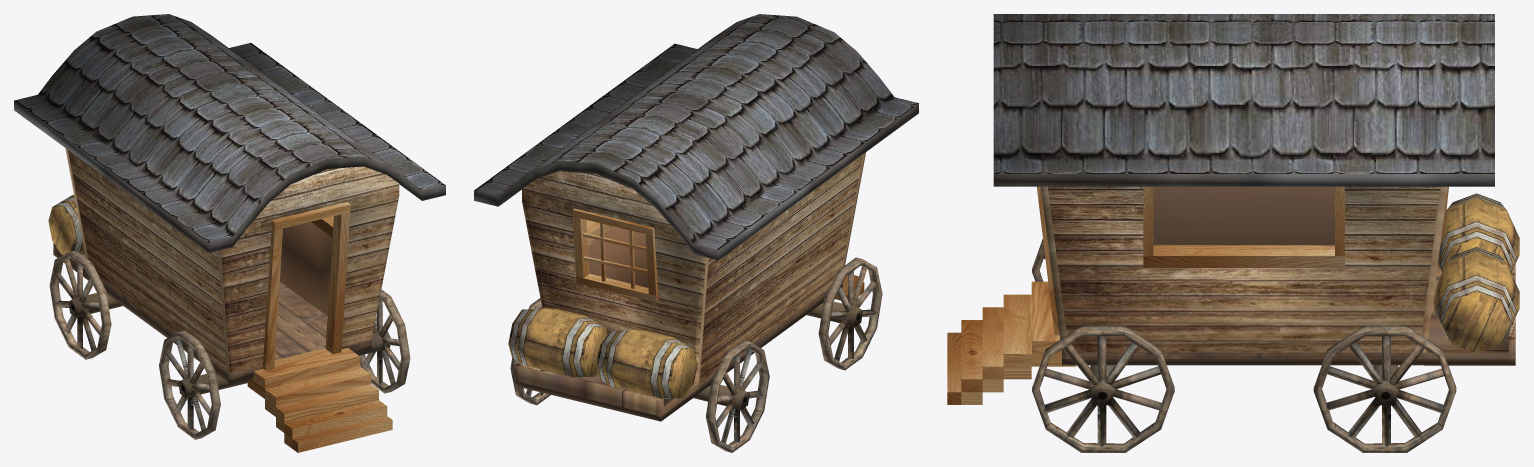
The model's file is caravan_shop.glb.
The picture shows the model from 3 angles, left to right: view 1: azimuth 30°, elevation 25°; view 2: azimuth 150°, elevation 25°; view 3: azimuth 270°, elevation 25°; orthographic projection. The views are drawn at different scales.
Visible parts, largest first — view 1: Roof, Wagon, Steps, Wheels, Trim_2, Spokes, Barrel, Axles; view 2: Roof, Wagon, Barrel, Barrel.001, Wheels, Spokes, Trim_1, Axles, WindowBars; view 3: Roof, Wagon, Steps, Spokes, Wheels, Barrel.001, Trim_3, Barrel, Axles, Trim_2.
Boxes of the visible parts, x1,y1,x2,y2 form: Roof: (14,14,445,252); Wagon: (53,148,399,383); Steps: (247,348,392,452); Wheels: (49,250,410,439); Trim_2: (263,202,350,370); Spokes: (55,259,399,430); Barrel: (48,195,85,255); Axles: (68,293,390,397); Roof: (474,14,918,260); Wagon: (514,152,865,421); Barrel: (596,330,697,398); Barrel.001: (508,308,607,377); Wheels: (510,257,882,452); Spokes: (526,266,876,443); Trim_1: (572,208,658,302); Axles: (693,301,862,409); WindowBars: (583,223,647,288); Roof: (993,14,1494,186); Wagon: (1040,186,1515,365); Steps: (947,281,1076,404); Spokes: (1043,255,1444,446); Wheels: (1032,239,1456,452); Barrel.001: (1433,247,1519,353); Trim_3: (1143,186,1344,267); Barrel: (1438,193,1519,272); Axles: (1090,365,1398,405); Trim_2: (1037,186,1059,335).
Bounding box in the file's own units: 5 × 5.68 × 8.13.
7 materials, 7 textured.
